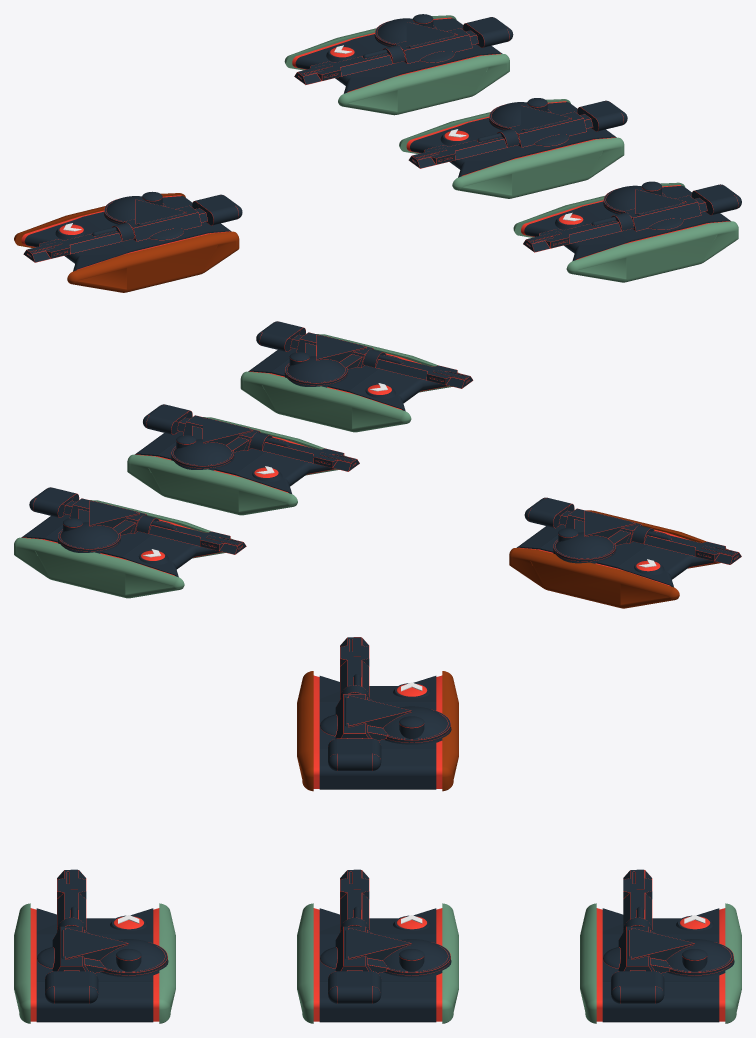
The model's file is TRON_TANK.dae.
3 renders of one model, top to bottom at view 1: azimuth 30°, elevation 25°; view 2: azimuth 150°, elevation 25°; view 3: azimuth 270°, elevation 25°, orthographic. The views are drawn at different scales.
Parts seen in each view (by area): view 1: gun1, gun5, gun3, gun7, Group7, Group27, Group20, Group13, Group11, Group5, Group18, Group25 (+4 smaller); view 2: gun7, gun5, gun1, gun3, Group21, Group28, Group1, Group14, Group5, Group18, Group11, Group25 (+4 smaller); view 3: gun3, gun5, gun7, gun1, Group11, Group18, Group25, Group5, Group27, Group20, Group13, Group7 (+8 smaller).
Part boxes in pixels (x1,y1,x2,y2): gun1: [23, 191, 242, 262]; gun5: [408, 98, 627, 168]; gun3: [294, 14, 513, 84]; gun7: [523, 181, 741, 252]; Group7: [67, 231, 239, 292]; Group27: [566, 221, 738, 282]; Group20: [452, 137, 624, 198]; Group13: [338, 54, 509, 115]; Group11: [295, 18, 502, 93]; Group5: [24, 196, 231, 271]; Group18: [410, 102, 616, 177]; Group25: [524, 185, 730, 261]; gun7: [256, 321, 473, 388]; gun5: [143, 404, 359, 471]; gun1: [524, 497, 741, 564]; gun3: [29, 487, 246, 554]; Group21: [127, 454, 297, 515]; Group28: [240, 371, 411, 432]; Group1: [509, 548, 679, 608]; Group14: [14, 537, 184, 598]; Group5: [516, 524, 716, 587]; Group18: [135, 431, 334, 493]; Group11: [21, 514, 221, 577]; Group25: [248, 348, 448, 411]; gun3: [603, 869, 733, 1003]; gun5: [320, 869, 450, 1003]; gun7: [37, 869, 167, 1003]; gun1: [320, 637, 450, 770]; Group11: [602, 908, 734, 1022]; Group18: [319, 908, 451, 1022]; Group25: [36, 908, 168, 1022]; Group5: [319, 676, 451, 789]; Group27: [14, 903, 30, 1023]; Group20: [297, 903, 313, 1023]; Group13: [580, 903, 596, 1023]; Group7: [297, 671, 313, 791].
Size of what is drawn, in the model's own units: 4471 by 381 by 3858.
11 materials, 5 textured.
